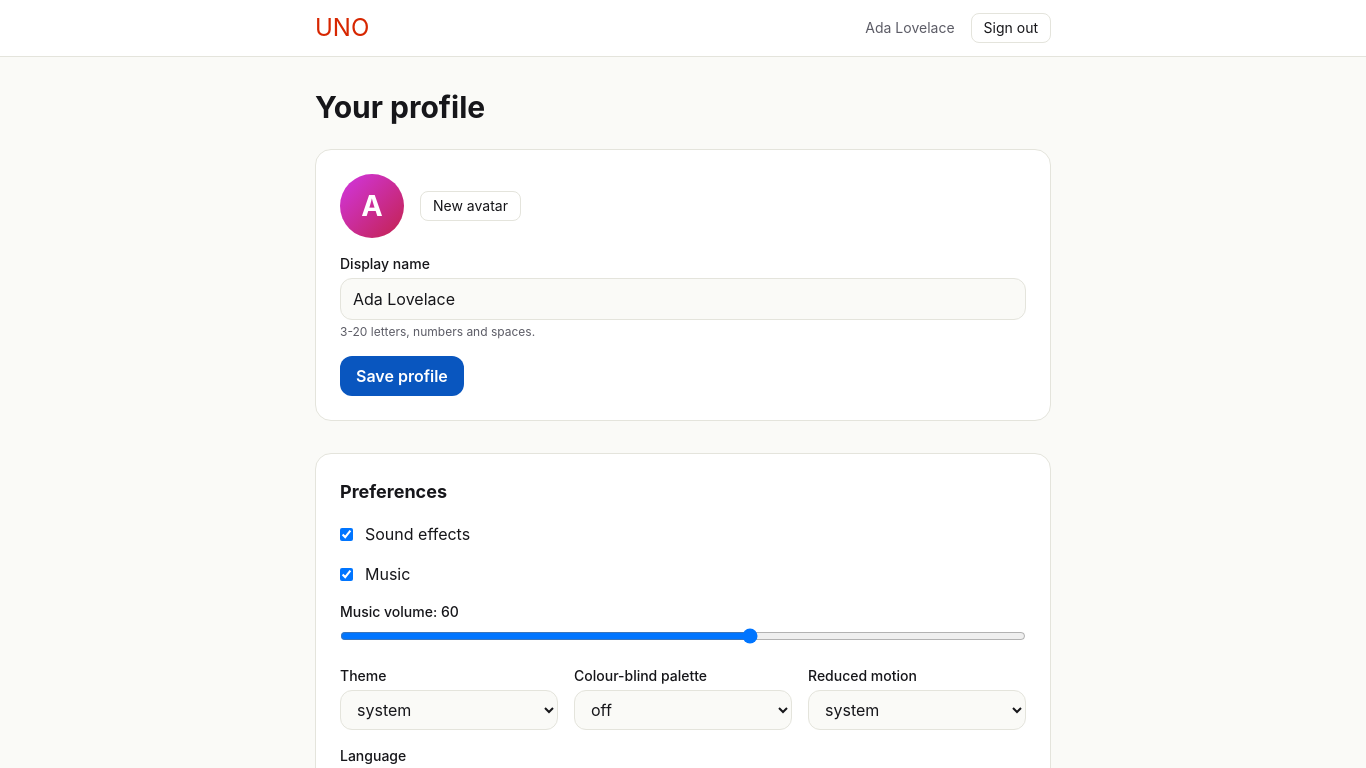
Test: profile page › flags an invalid name and blocks saving
Replace the text in the field labelled "Display name" with "No!". click: {"x": 683, "y": 299}
box: [340,278,1026,320]
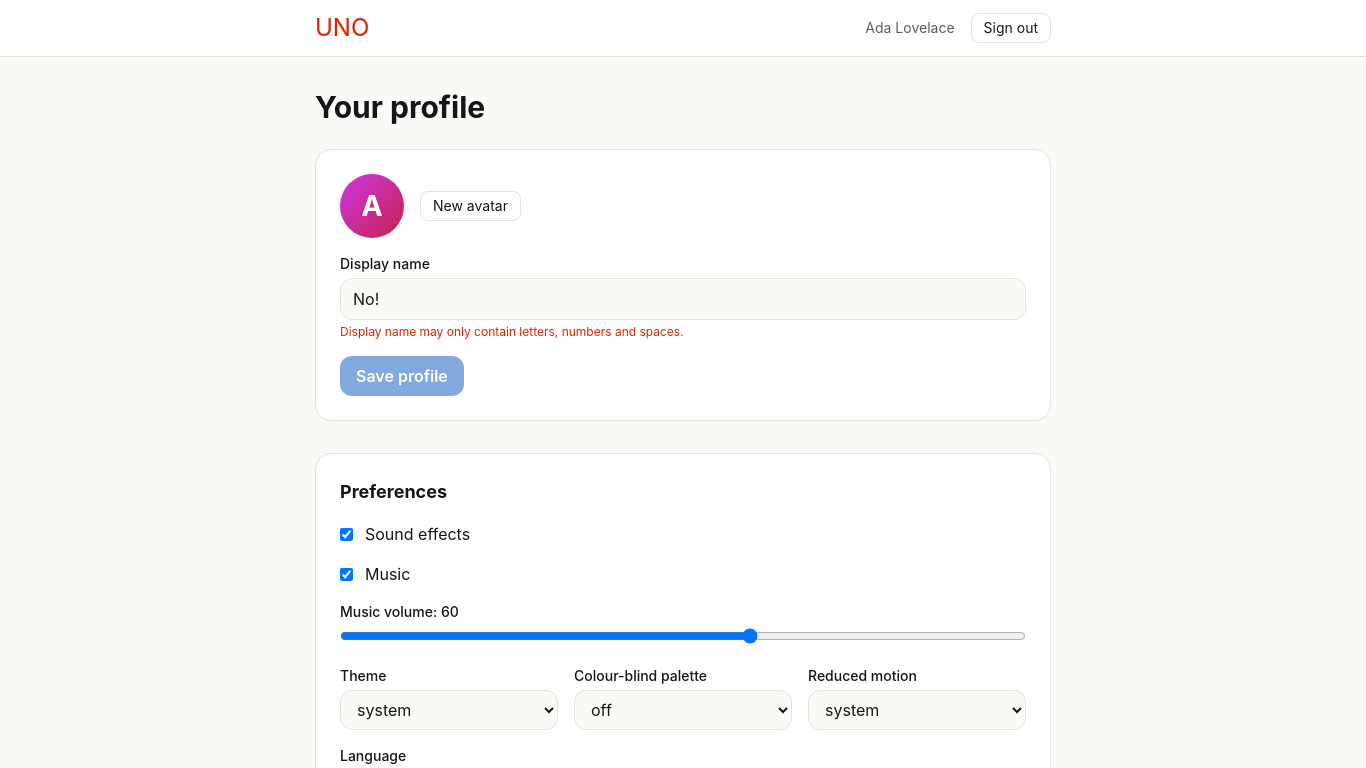
Result: the text "Display name may only contain letters, numbers and spaces." is shown at [340,324,684,339]
Result: the button "Save profile" is disabled at [340,356,464,396]
